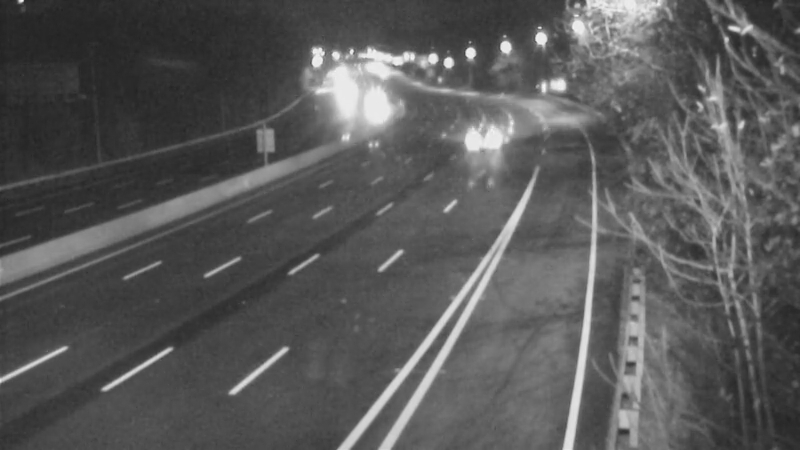vehicle: (462, 114, 512, 164), (345, 85, 395, 135), (321, 71, 371, 121)
